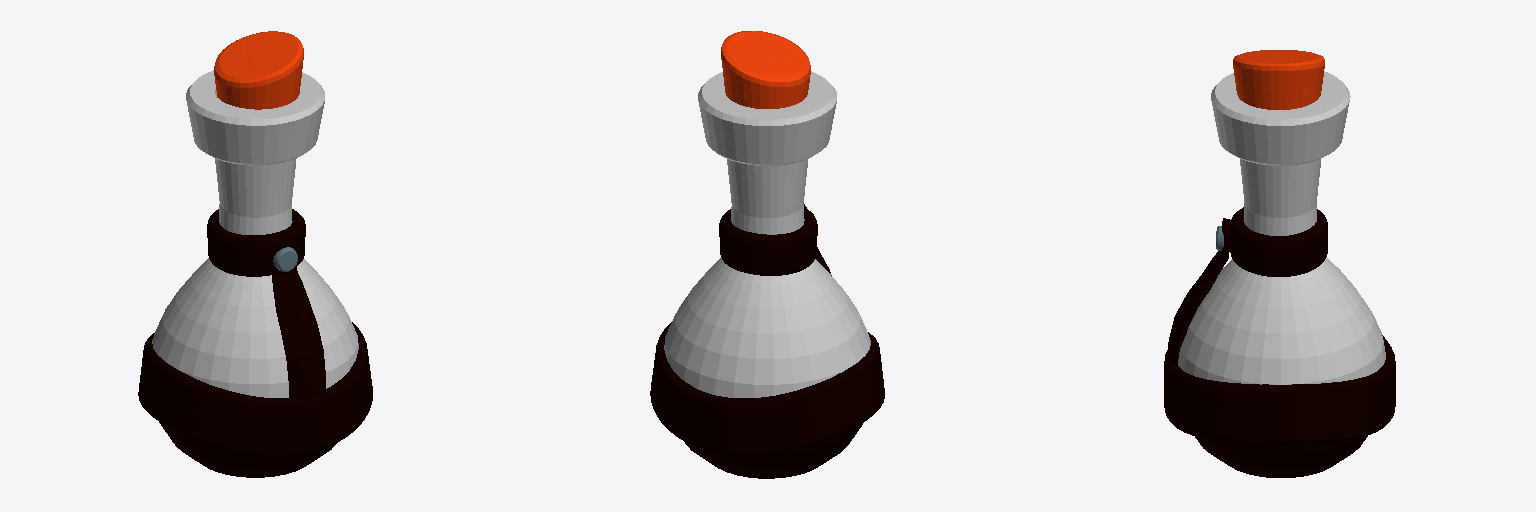
The model's file is Potion.obj.
3 renders of one model, left to right at view 1: azimuth 30°, elevation 25°; view 2: azimuth 150°, elevation 25°; view 3: azimuth 270°, elevation 25°, orthographic.
Visible parts, largest first — view 1: Potion; view 2: Potion; view 3: Potion.
Part boxes in pixels (x1,y1,x2,y2): Potion: (138,31,372,477); Potion: (650,31,884,478); Potion: (1164,50,1395,477).
Bounding box in the file's own units: 0.8798 × 1.73 × 0.8647.